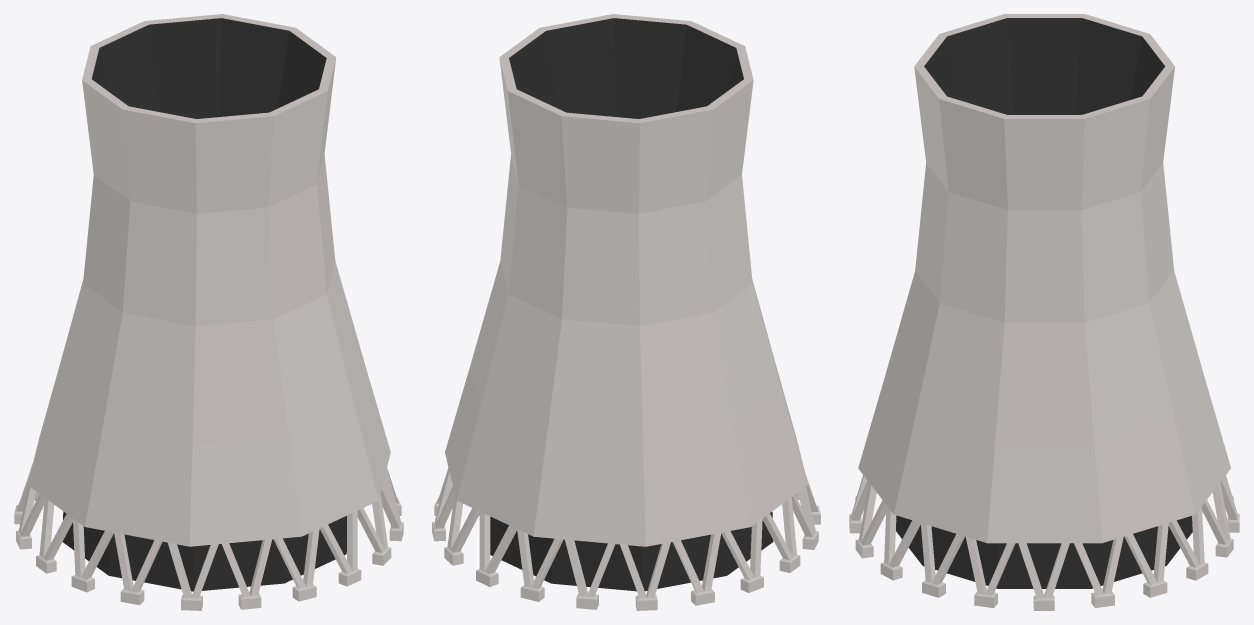
File: cooling-tower.glb
The picture shows the model from 3 angles, left to right: view 1: azimuth 30°, elevation 25°; view 2: azimuth 150°, elevation 25°; view 3: azimuth 270°, elevation 25°; orthographic projection.
Parts seen in each view (by area): view 1: cooling-tower; view 2: cooling-tower; view 3: cooling-tower.
Boxes of the visible parts, x1,y1,x2,y2 form: cooling-tower: [14, 14, 403, 610]; cooling-tower: [432, 14, 820, 610]; cooling-tower: [849, 14, 1239, 610].
Size of the model in its own units: 26.17 by 34.16 by 26.17.
1 material, 1 textured.
